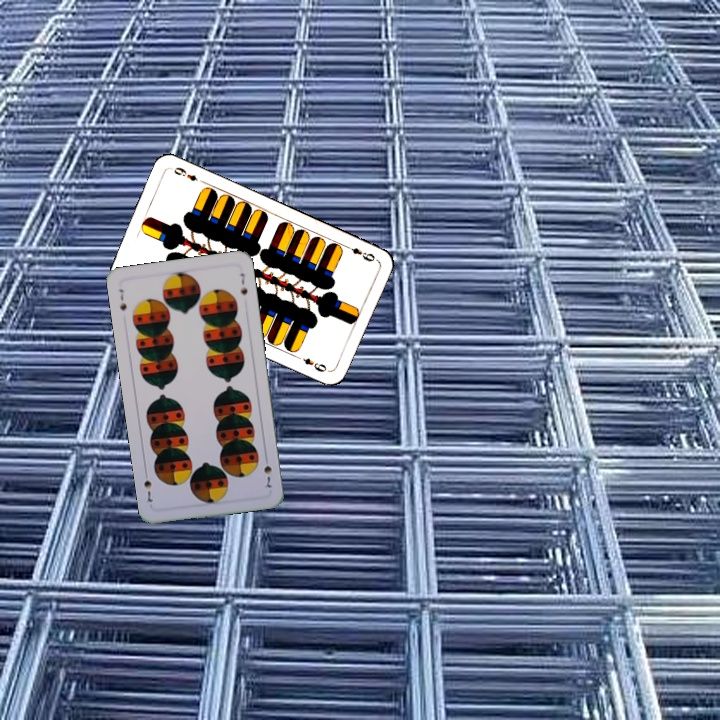E9: (341, 241, 379, 264)
S7: (260, 452, 274, 490), (114, 285, 129, 313)
